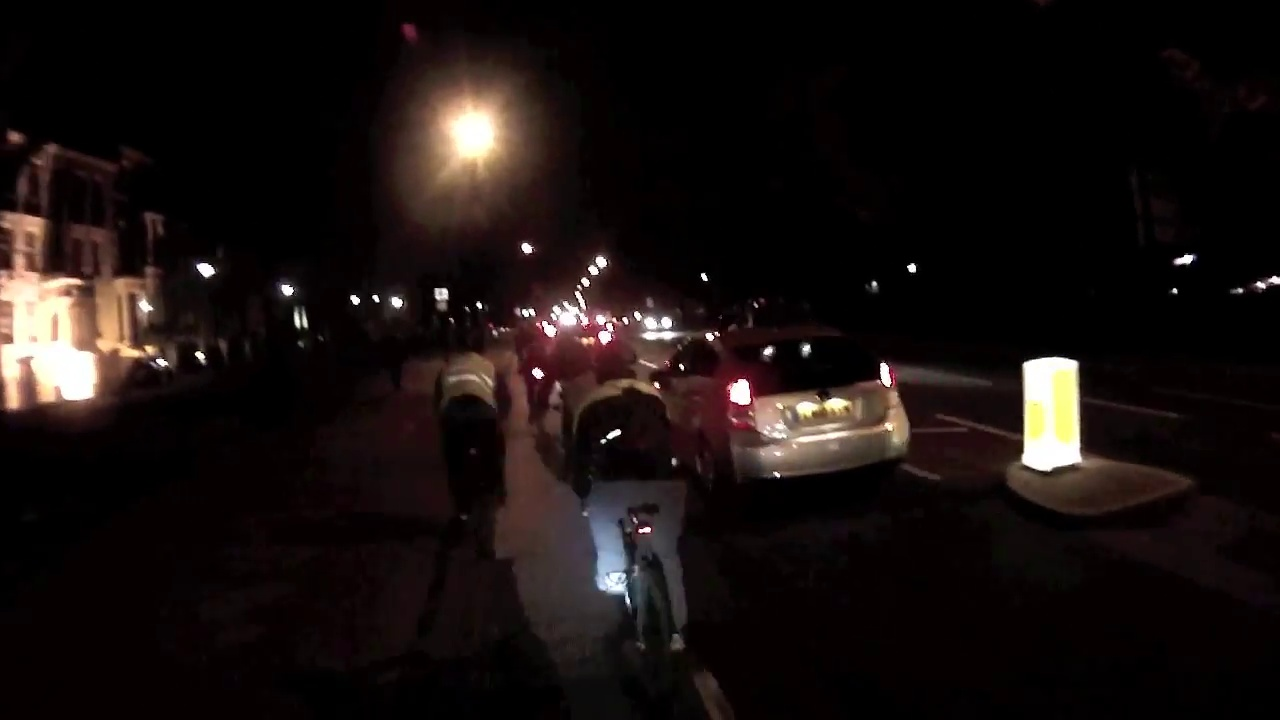cyclist_back: (565, 336, 698, 693), (427, 333, 506, 563)
